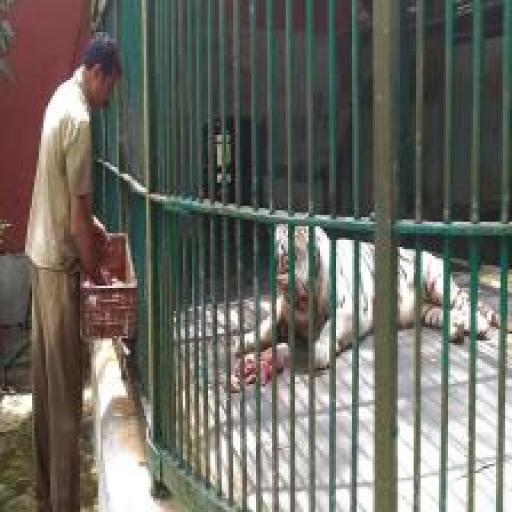Tiger: (226, 201, 511, 386)
